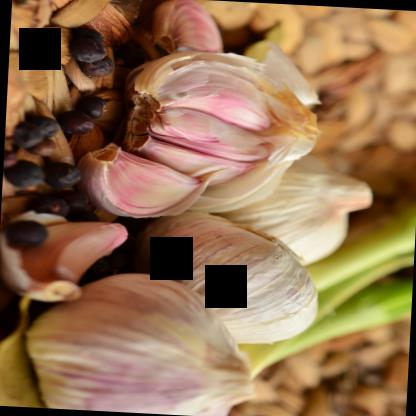garlic: (88, 53, 316, 228), (29, 266, 265, 415), (138, 209, 318, 368), (212, 151, 376, 273)
